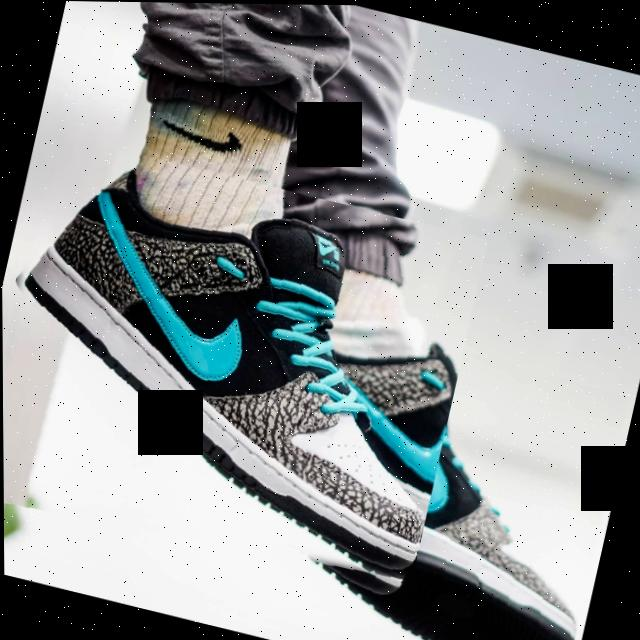shoe: (1, 129, 489, 603), (164, 286, 632, 640)
